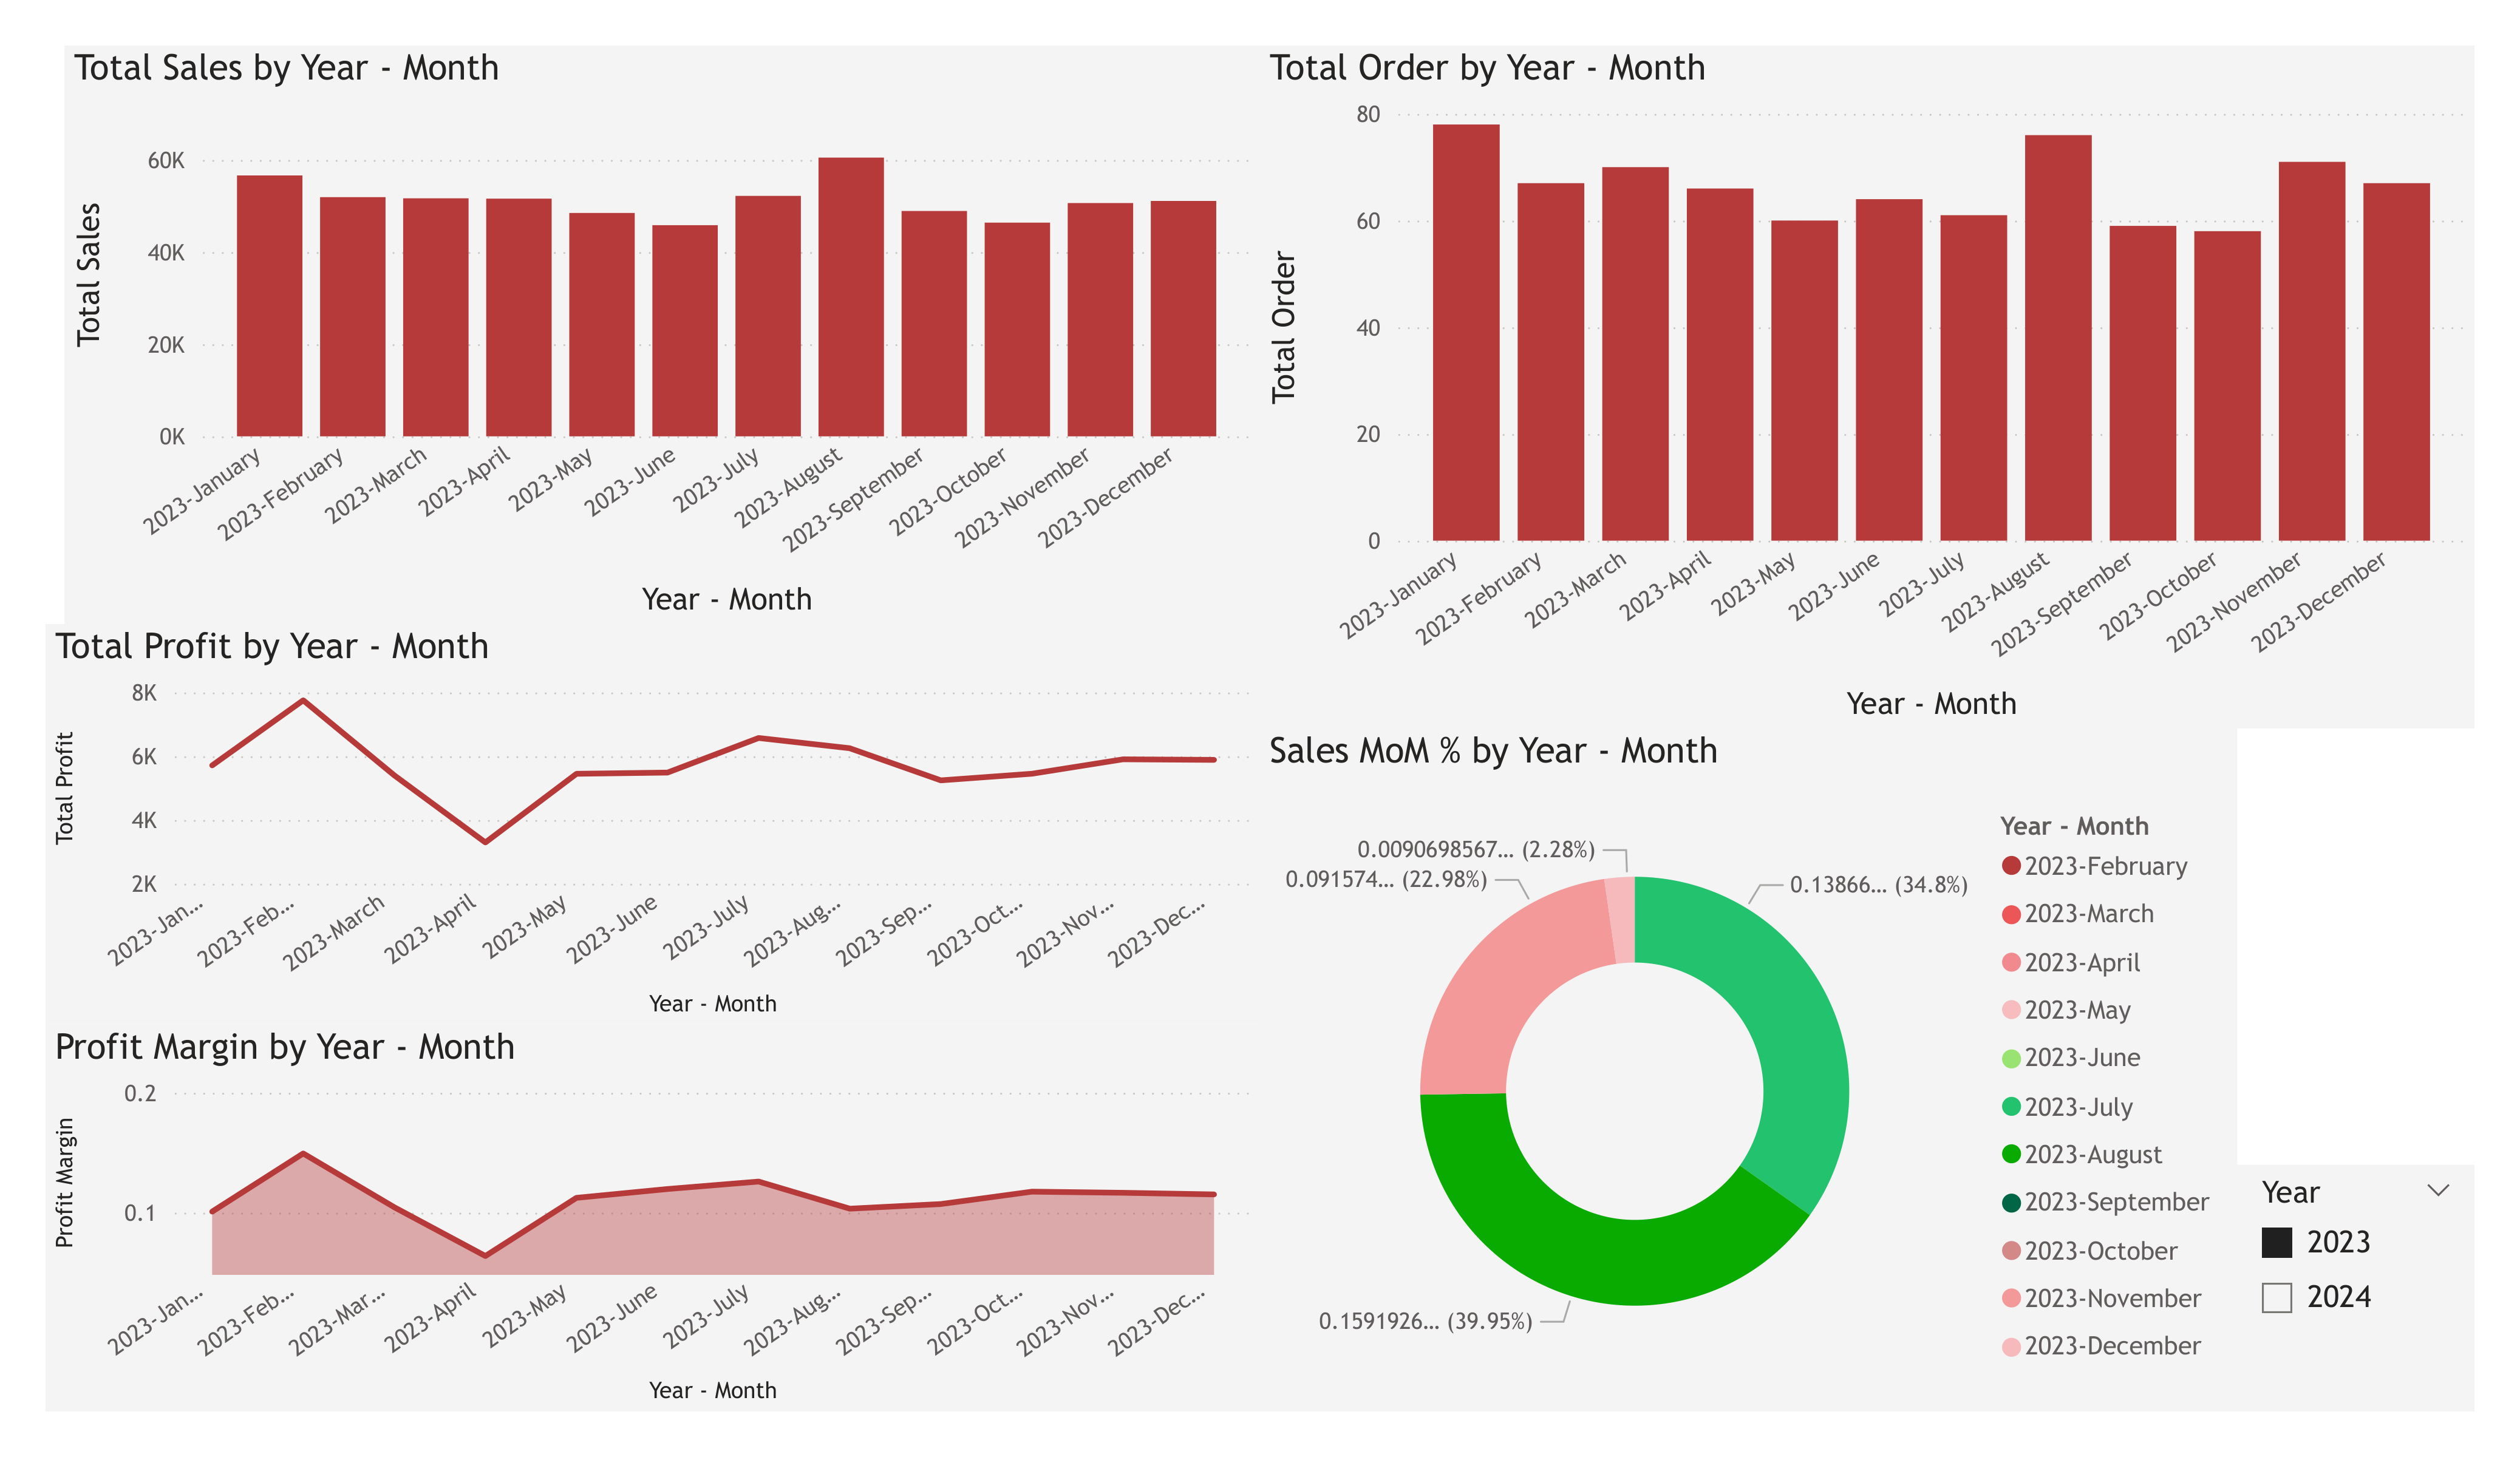

The dashboard page shown, as its layout file describes it:
{"tool":"powerbi","page":{"name":"Time Analysis","canvas":[1280,720],"ordinal":2},"visuals":[{"type":"clusteredColumnChart","fields":{"Category":["Date Table.Year - Month"],"Y":["Measures (2).Total Sales"]},"box":[10.5,0,629.1,304.7],"z":0},{"type":"lineChart","fields":{"Y":["Measures (2).Total Profit"],"Category":["Date Table.Year - Month"]},"box":[0,304.7,639.5,211.6],"z":1000},{"type":"slicer","fields":{"Values":["Date Table.Year"]},"box":[1154.7,589.5,125.6,130.2],"z":2000},{"type":"clusteredColumnChart","fields":{"Category":["Date Table.Year - Month"],"Y":["Measures (2).Total Order"]},"box":[639.5,0,640.7,360.5],"z":3000},{"type":"donutChart","fields":{"Category":["Date Table.Year - Month"],"Y":["Measures (2).Sales MoM %"]},"box":[639.5,360.5,515.1,359.3],"z":4000},{"type":"stackedAreaChart","fields":{"Y":["Measures (2).Profit Margin"],"Category":["Date Table.Year - Month"]},"box":[0,516.3,639.5,203.5],"z":5000}]}

Visuals, with their boxes on the page's 1280x720 design canvas (x1, y1, x2, y2). These are canvas units, not pixel positions in the 2520x1457 screenshot, which may show the page scaled, cropped or inside an application window:
clusteredColumnChart - Date Table.Year - Month x Measures (2).Total Sales: (x1=10, y1=0, x2=640, y2=305)
lineChart - Measures (2).Total Profit x Date Table.Year - Month: (x1=0, y1=305, x2=640, y2=516)
slicer - Date Table.Year: (x1=1155, y1=590, x2=1280, y2=720)
clusteredColumnChart - Date Table.Year - Month x Measures (2).Total Order: (x1=640, y1=0, x2=1280, y2=360)
donutChart - Date Table.Year - Month x Measures (2).Sales MoM %: (x1=640, y1=360, x2=1155, y2=720)
stackedAreaChart - Measures (2).Profit Margin x Date Table.Year - Month: (x1=0, y1=516, x2=640, y2=720)
